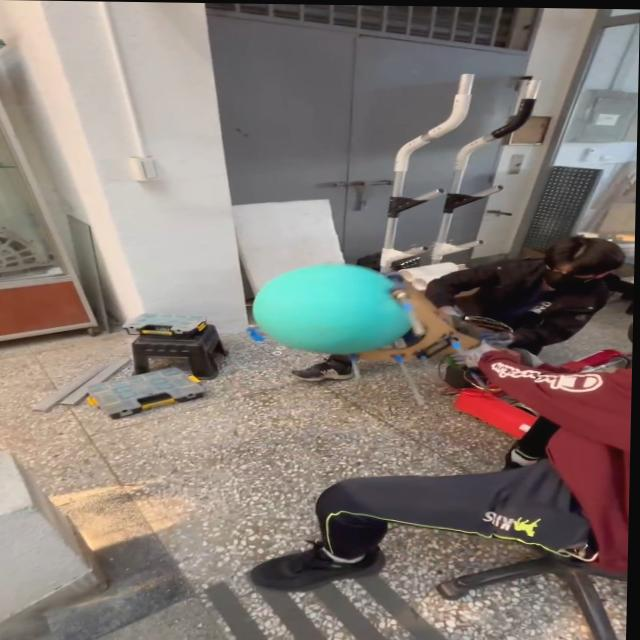ALGAE: (248, 262, 414, 356)
